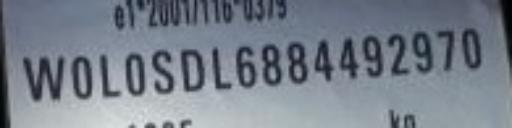letter: (21, 55, 65, 103), (178, 46, 210, 92), (150, 47, 178, 95), (68, 52, 96, 100), (457, 25, 485, 71), (310, 36, 338, 82), (97, 52, 123, 100), (386, 31, 412, 77), (336, 33, 362, 79), (359, 33, 385, 79), (286, 39, 312, 85), (210, 44, 236, 90), (233, 43, 259, 87), (409, 29, 435, 72), (124, 52, 146, 98), (260, 41, 282, 85), (434, 29, 456, 72)
